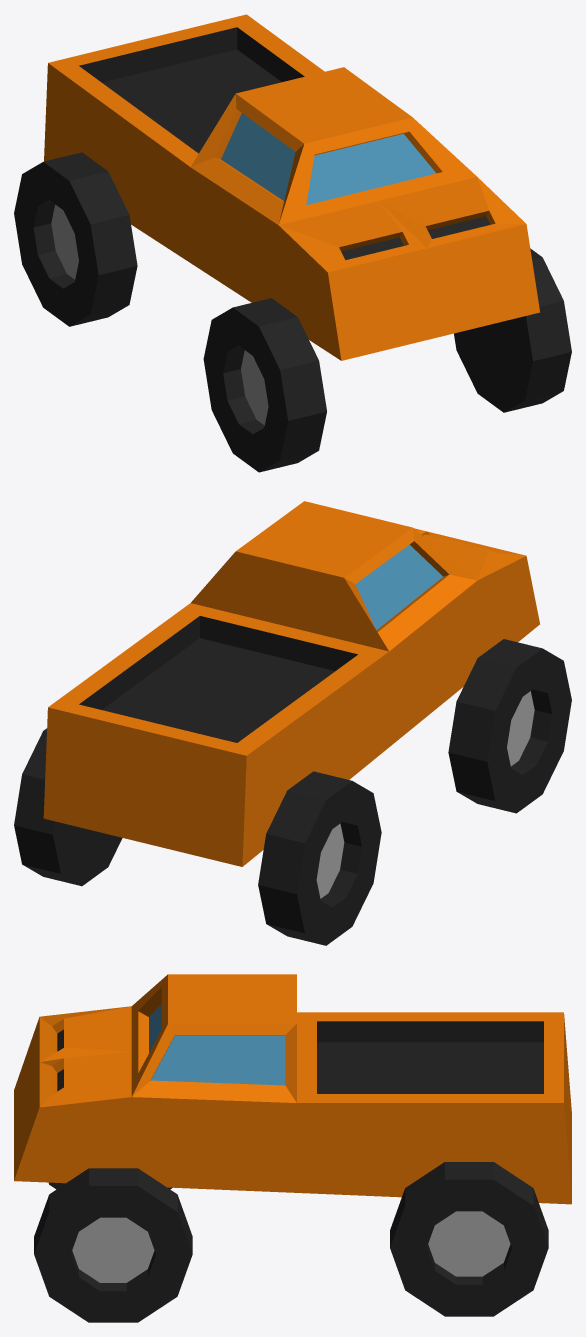
The model's file is low-poly-monster-truck.gltf.
The picture shows the model from 3 angles, top to bottom: view 1: azimuth 30°, elevation 25°; view 2: azimuth 150°, elevation 25°; view 3: azimuth 270°, elevation 25°; orthographic projection. The views are drawn at different scales.
Visible parts, largest first — view 1: orange-chassis, back-right-tire, front-right-tire, front-left-tire; view 2: orange-chassis, front-right-tire, back-right-tire, back-left-tire; view 3: orange-chassis, front-left-tire, back-left-tire.
Part boxes in pixels (box(x1,y1,x2,y2)): orange-chassis: box(44, 14, 539, 360); back-right-tire: box(14, 152, 137, 326); front-right-tire: box(203, 298, 326, 472); front-left-tire: box(454, 248, 571, 412); orange-chassis: box(43, 501, 539, 866); front-right-tire: box(448, 639, 571, 813); back-right-tire: box(258, 771, 381, 945); back-left-tire: box(14, 728, 122, 886); orange-chassis: box(14, 974, 571, 1204); front-left-tire: box(34, 1168, 192, 1322); back-left-tire: box(390, 1162, 548, 1316).
Bounding box in the file's own units: 3.06 × 2.85 × 5.57.
Materials: 1 (1 with a texture image).
